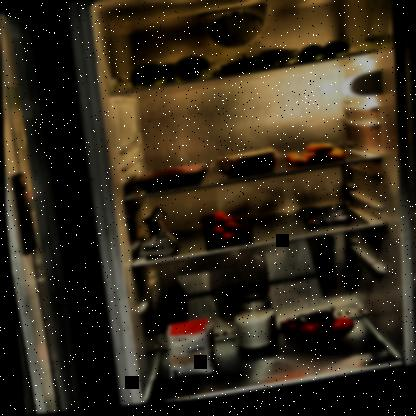apple: (127, 55, 214, 95)
carrot: (280, 143, 349, 178)
chocolate: (298, 208, 352, 236)
green_beans: (214, 48, 300, 82)
ground_beef: (131, 160, 209, 199)
lime: (295, 46, 352, 70)
strawberries: (195, 210, 253, 252)
tomato: (274, 310, 351, 352)
